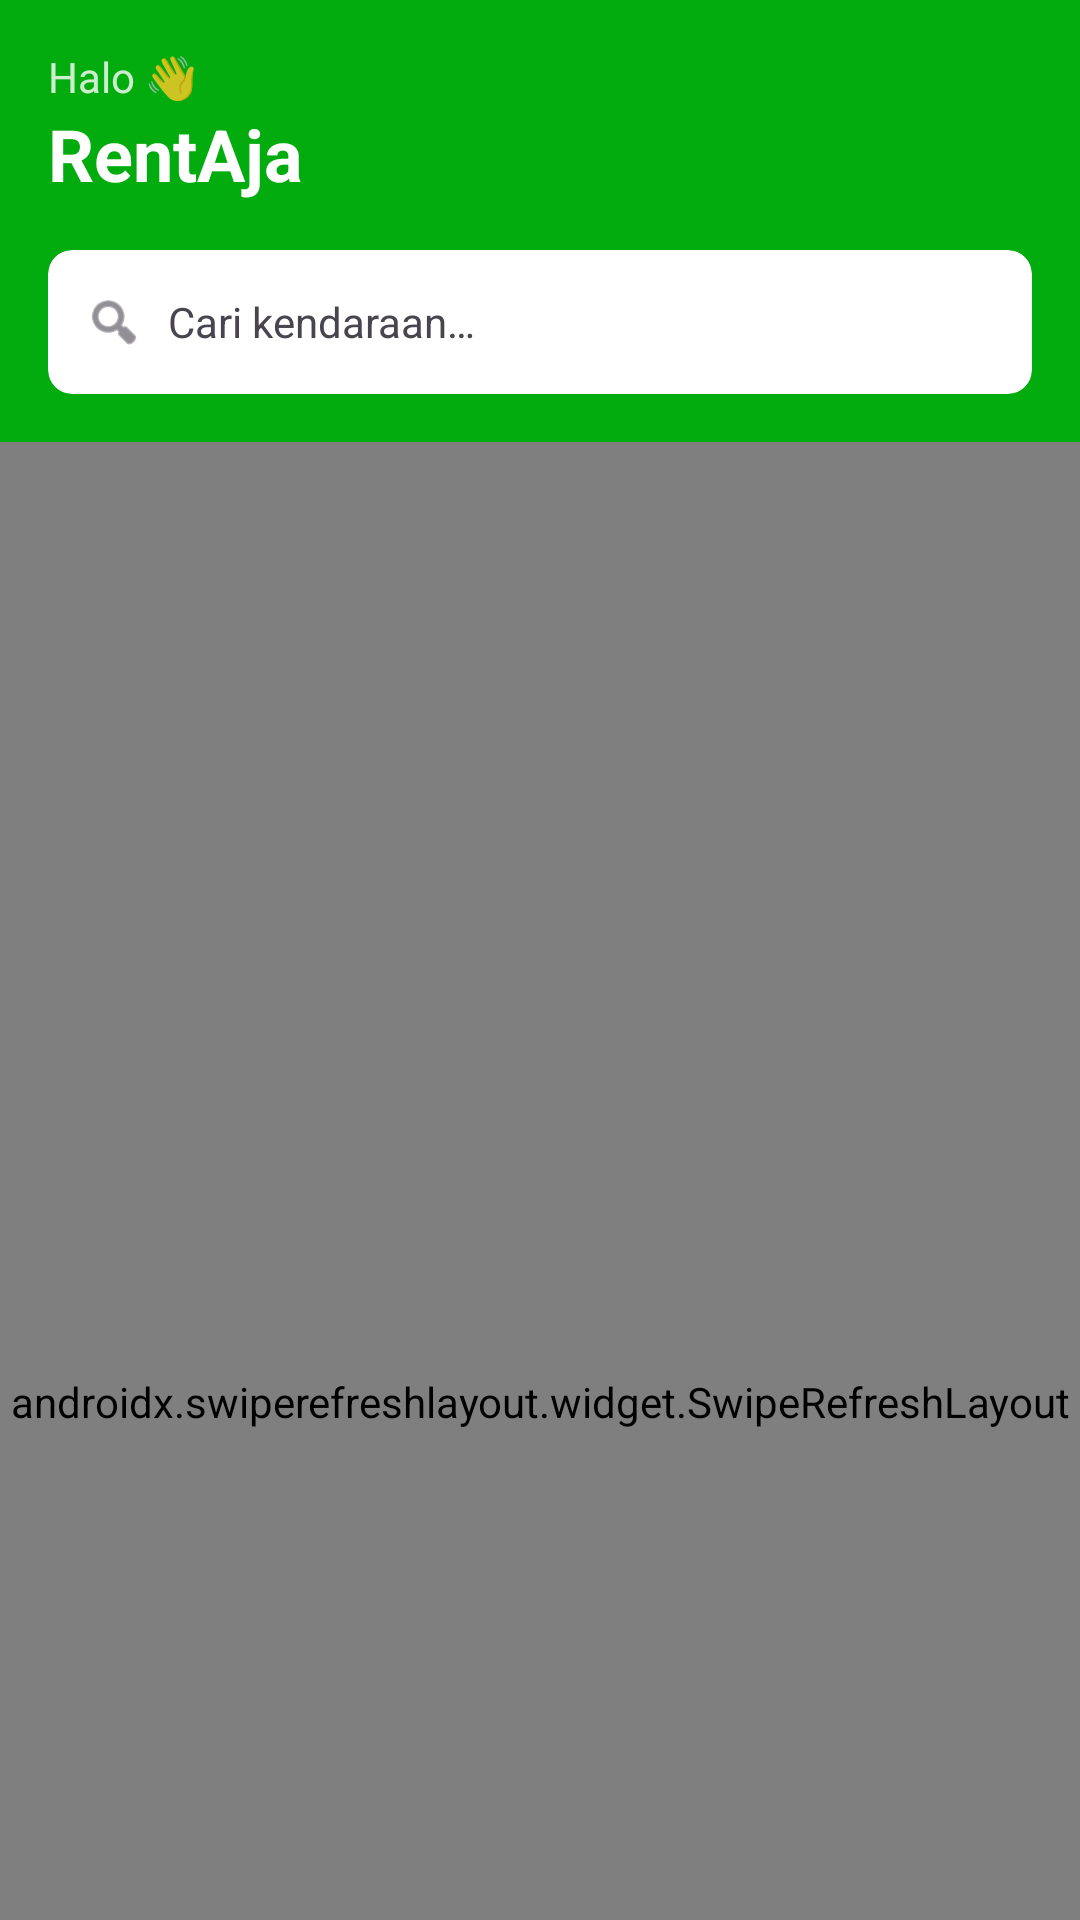

Where to tap for icons on this 1080 x 1920 app screen, as (x=x, y=y):
search: (x=114, y=322)
